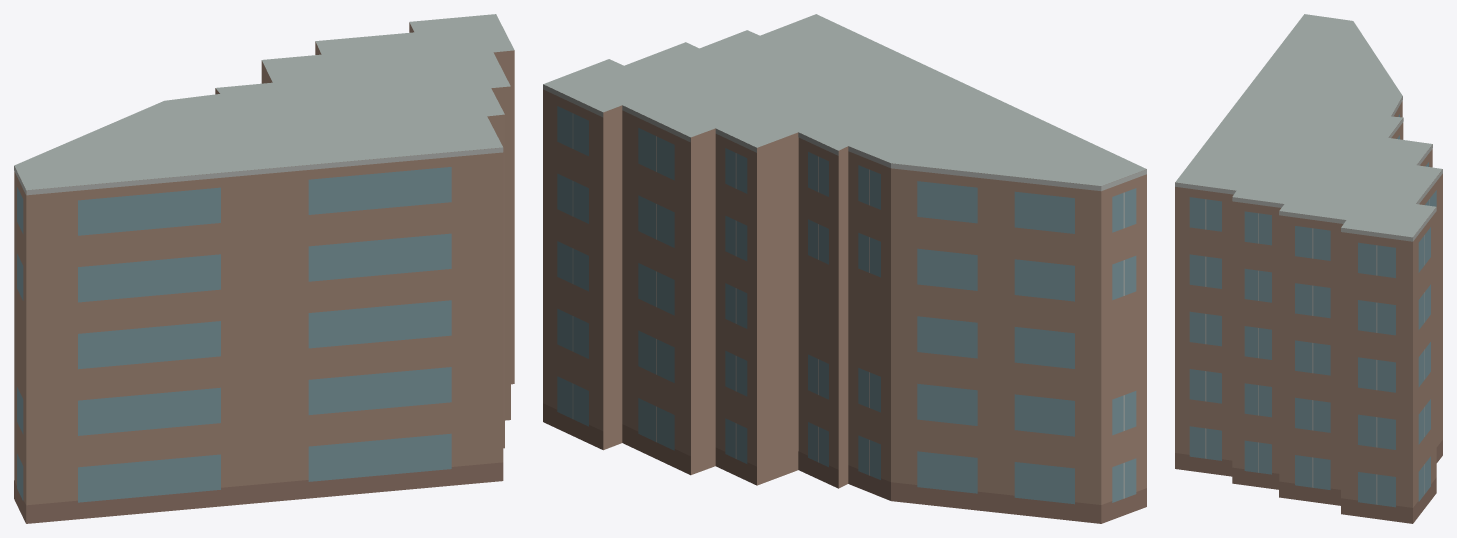
Rendered from survey-upis-33004986.glb.
3 renders of one model, left to right at view 1: azimuth 30°, elevation 25°; view 2: azimuth 150°, elevation 25°; view 3: azimuth 270°, elevation 25°, orthographic. The views are drawn at different scales.
Parts seen in each view (by area): view 1: survey-upis-33004986.tmp; view 2: survey-upis-33004986.tmp; view 3: survey-upis-33004986.tmp.
Boxes of the visible parts, <box> form: survey-upis-33004986.tmp: <box>14,14,514,523</box>; survey-upis-33004986.tmp: <box>543,14,1146,523</box>; survey-upis-33004986.tmp: <box>1175,14,1442,523</box>.
Size of the model in its own units: 26.93 by 16.1 by 13.65.
